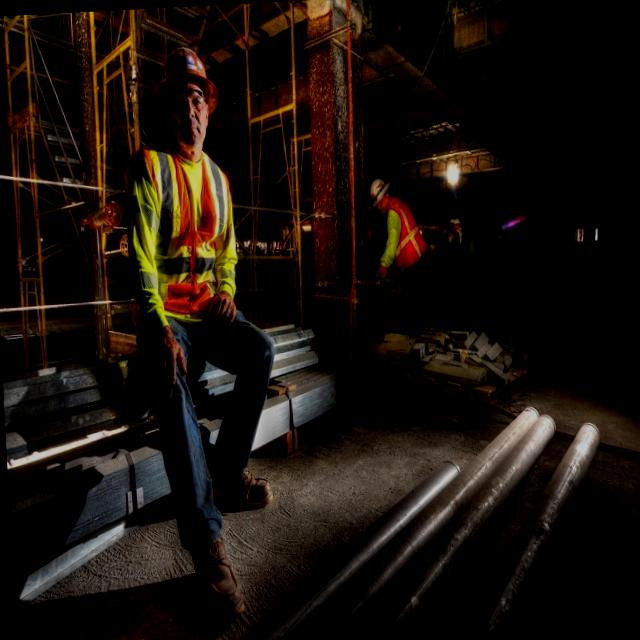goggles: (166, 83, 212, 116)
helmet: (150, 38, 228, 142), (366, 169, 396, 218)
vest: (125, 146, 244, 334), (372, 195, 429, 289)
